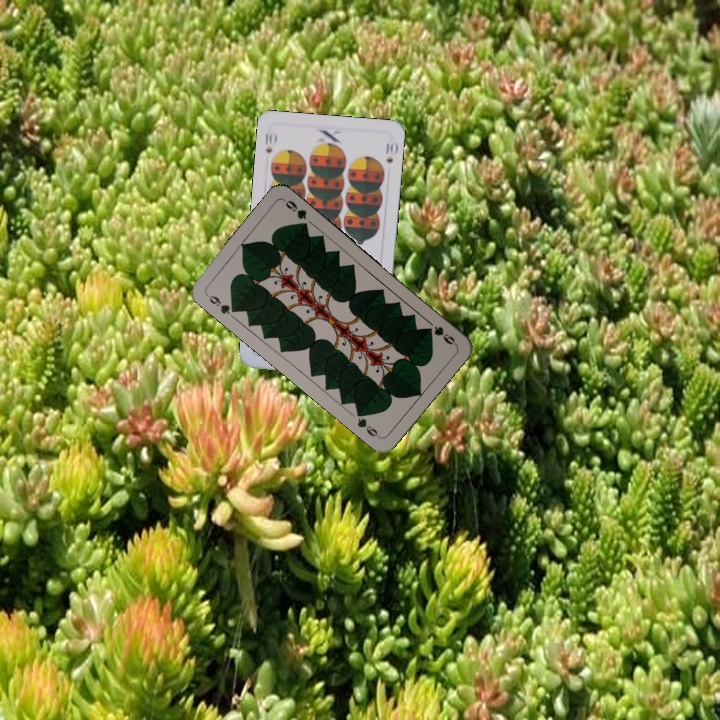G9: (202, 290, 240, 317), (430, 321, 459, 347)
S10: (261, 129, 279, 156)
